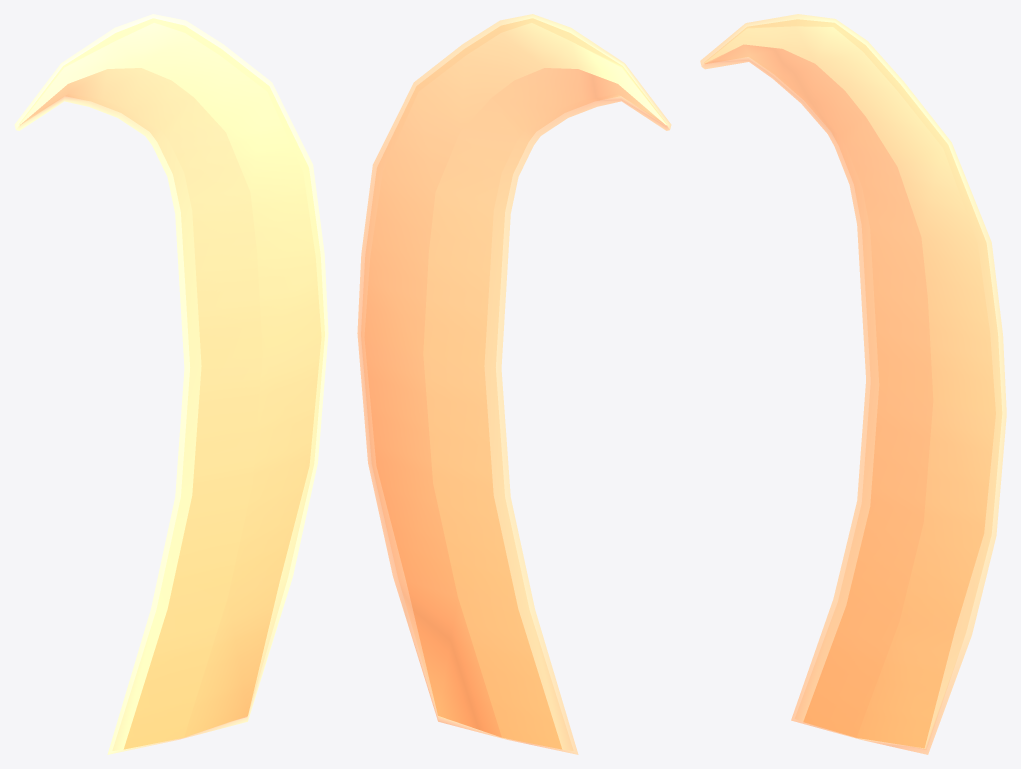
The model's file is wood_blade (20).glb.
3 renders of one model, left to right at view 1: azimuth 30°, elevation 25°; view 2: azimuth 150°, elevation 25°; view 3: azimuth 330°, elevation 25°, orthographic. The views are drawn at different scales.
Visible parts, largest first — view 1: wood_blade_steel.066; view 2: wood_blade_steel.066; view 3: wood_blade_steel.066.
Boxes of the visible parts, box(x1,y1,x2,y2) form: wood_blade_steel.066: box(14, 14, 328, 754); wood_blade_steel.066: box(357, 14, 671, 754); wood_blade_steel.066: box(700, 14, 1006, 754).
Size of the model in its own units: 4.65 by 10.35 by 0.241.
Materials: 1 (1 with a texture image).
